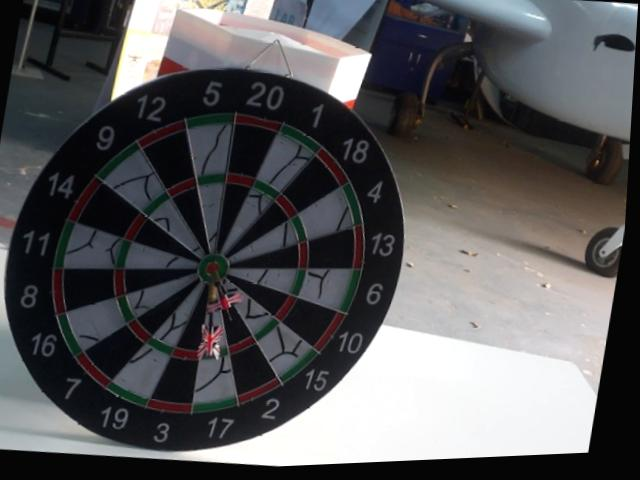bullseye: (202, 259, 228, 280)
